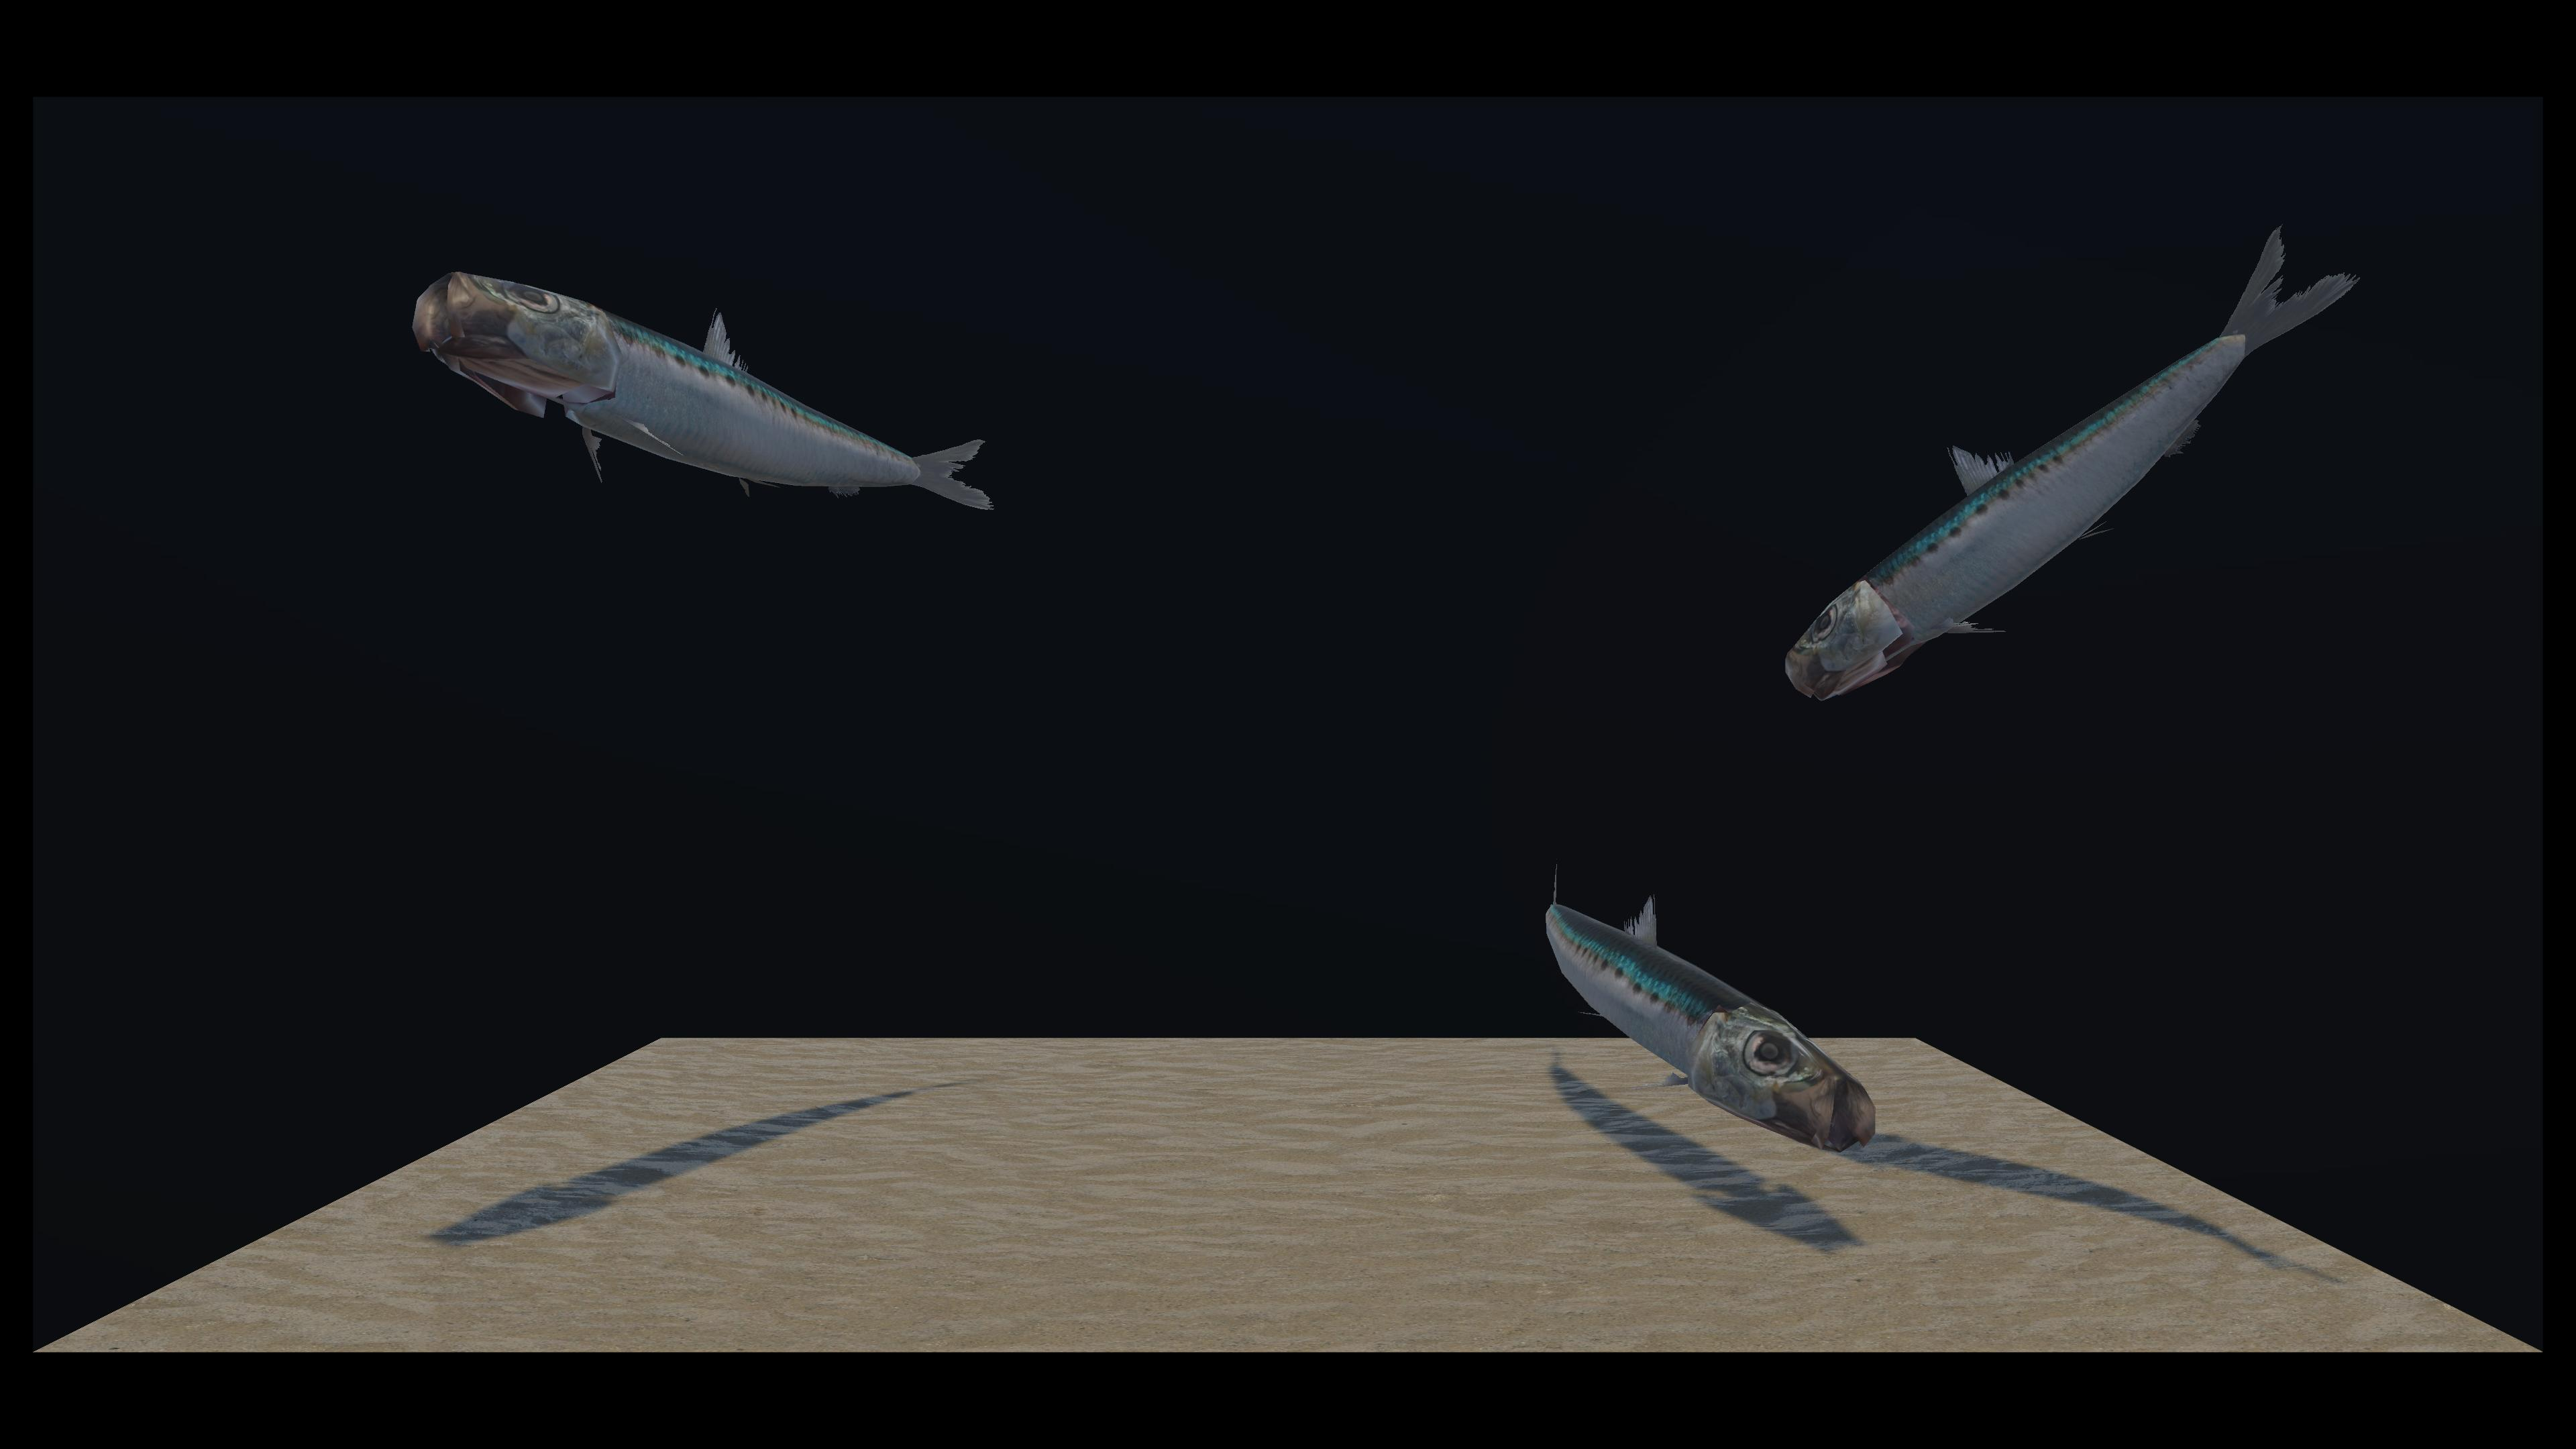Sardine_Front: (609, 435, 1841, 1103), (927, 228, 2359, 655), (455, 274, 985, 521)
